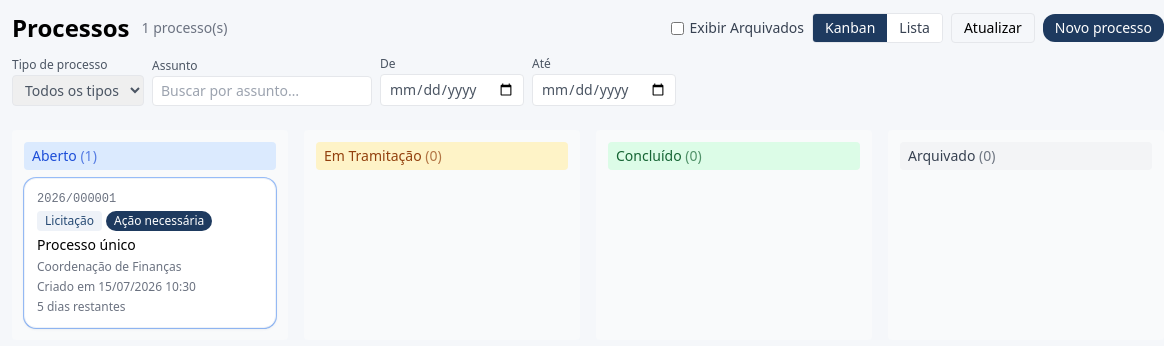
Test: ProcessosPage (Kanban) › alterna entre Kanban e Lista mantendo os mesmos processos (toggle)
Expected: the text "2026/000001" is shown, left=37, top=192, right=116, bottom=206
Click the button "Lista".
click(915, 28)  # box left=887, top=14, right=942, bottom=42
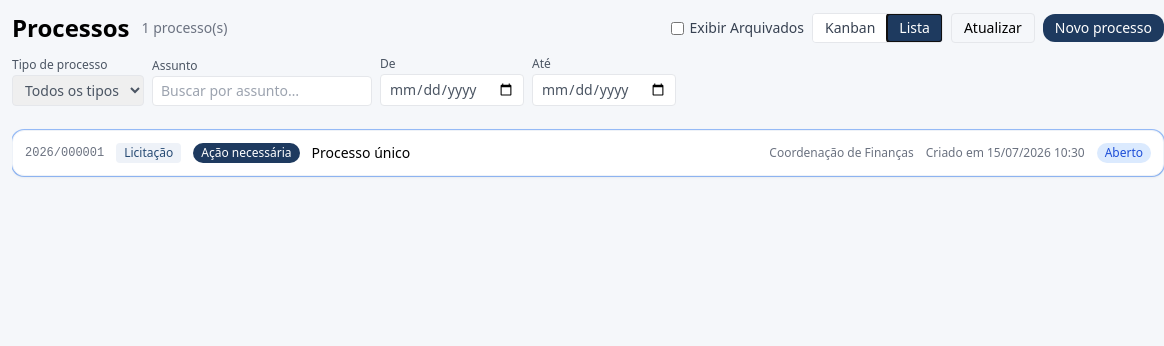
Expected: the text "Aberto" is shown, left=1097, top=143, right=1151, bottom=163
Expected: the link "2026/000001" is shown, left=12, top=130, right=1163, bottom=176
Click the button "Kanban".
click(850, 28)  # box left=813, top=14, right=887, bottom=42
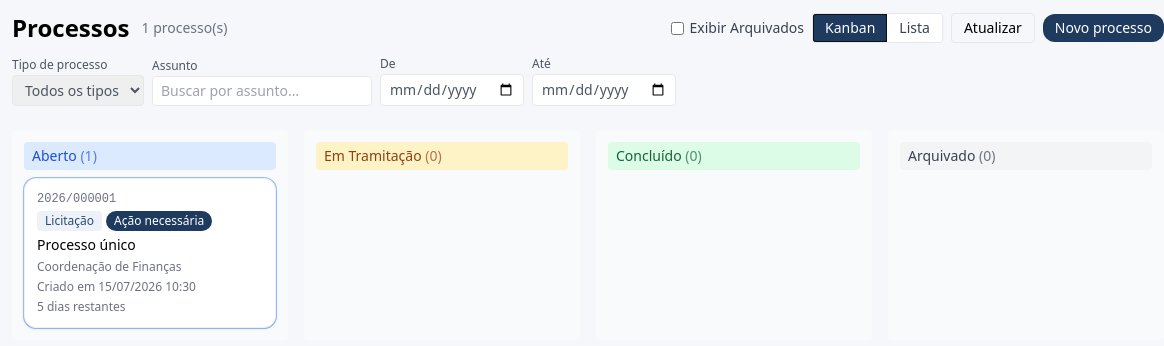
Expected: the text "2026/000001" is shown, left=24, top=178, right=276, bottom=328
